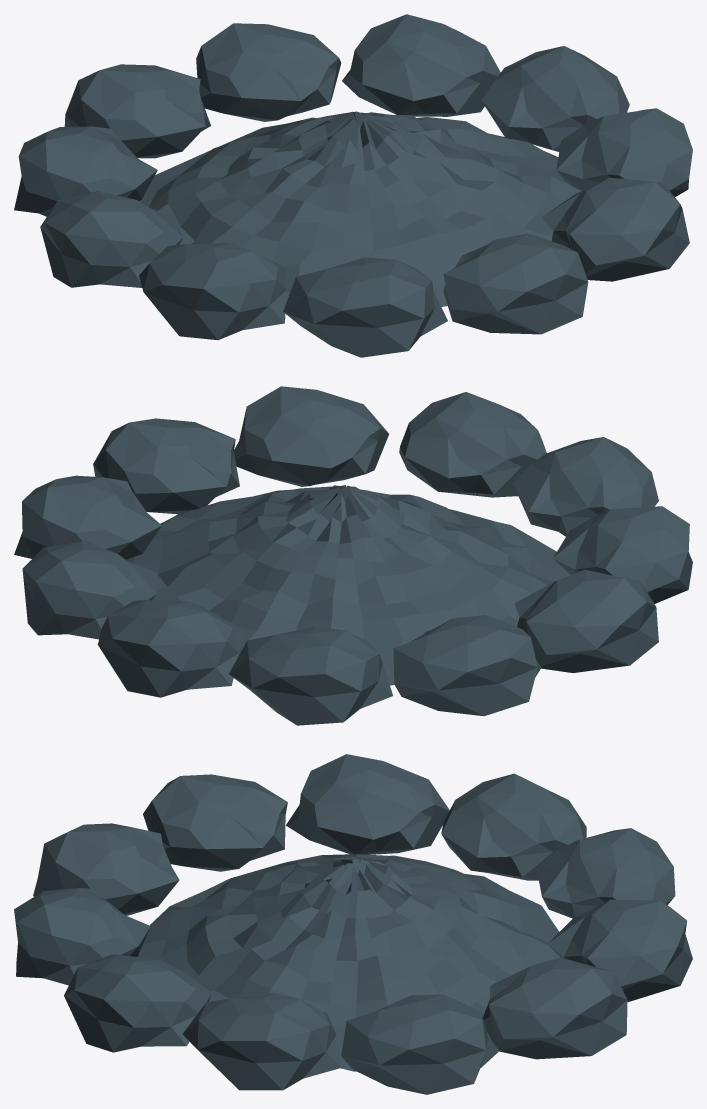
The model's file is lunar_campfire.fbx.
The picture shows the model from 3 angles, top to bottom: view 1: azimuth 30°, elevation 25°; view 2: azimuth 150°, elevation 25°; view 3: azimuth 270°, elevation 25°; orthographic projection.
Parts seen in each view (by area): view 1: Icosphere.001, Cylinder; view 2: Icosphere.001, Cylinder; view 3: Icosphere.001, Cylinder.
Part boxes in pixels (x1,y1,x2,y2): Icosphere.001: (14, 14, 692, 357); Cylinder: (139, 111, 581, 306); Icosphere.001: (14, 386, 692, 725); Cylinder: (126, 485, 570, 685); Icosphere.001: (14, 754, 692, 1094); Cylinder: (138, 854, 559, 1071).
Bounding box in the file's own units: 182 × 31.47 × 182.
